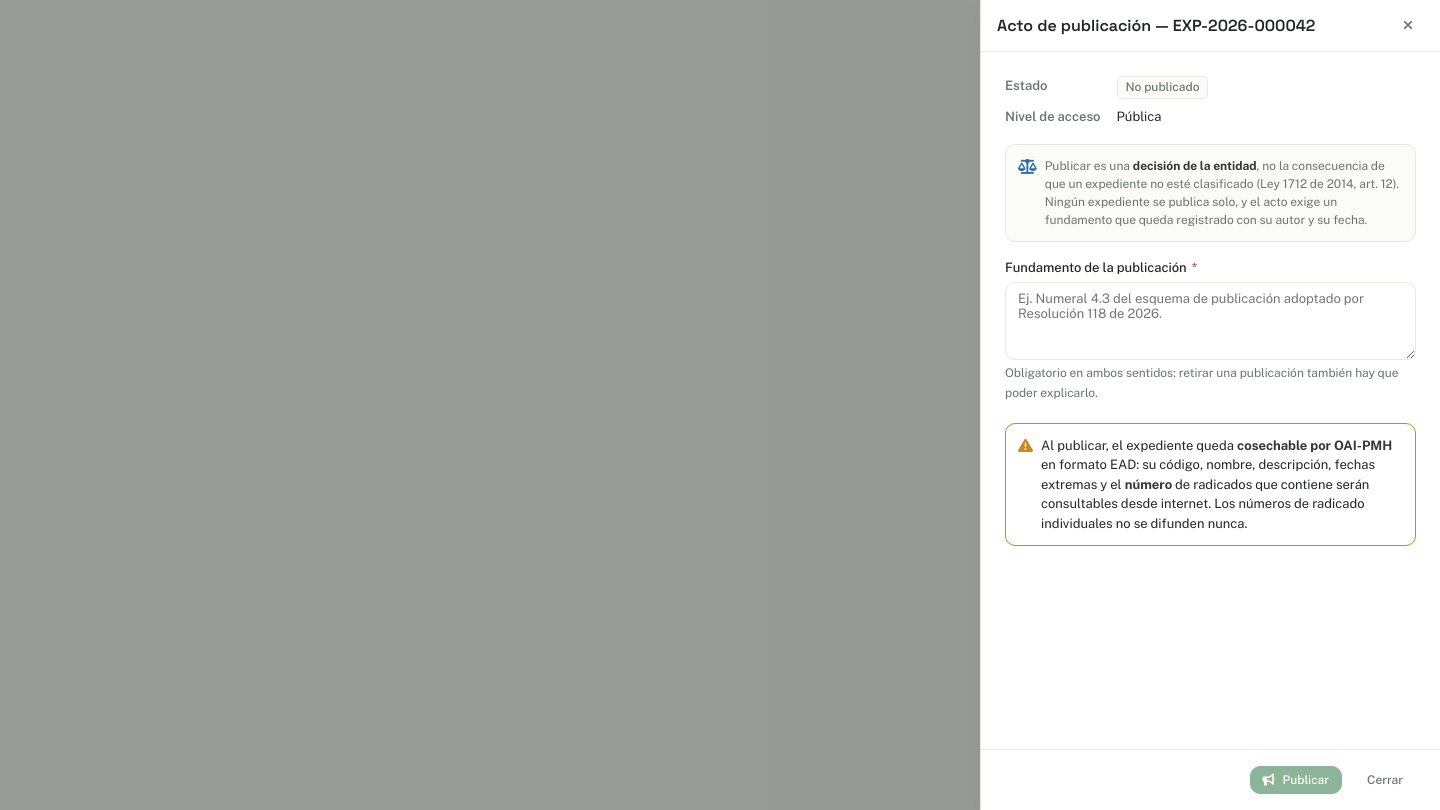
PublicacionExpedienteDrawer › sin fundamento el botón está deshabilitado
Expected: the 1st button named "Publicar" is disabled, [1250,766,1342,794]
Replace the text in the text box labelled "Fundamento de la publicación *" with "Numeral 4.3 del esquema": (1210, 321) [1005,282,1416,360]
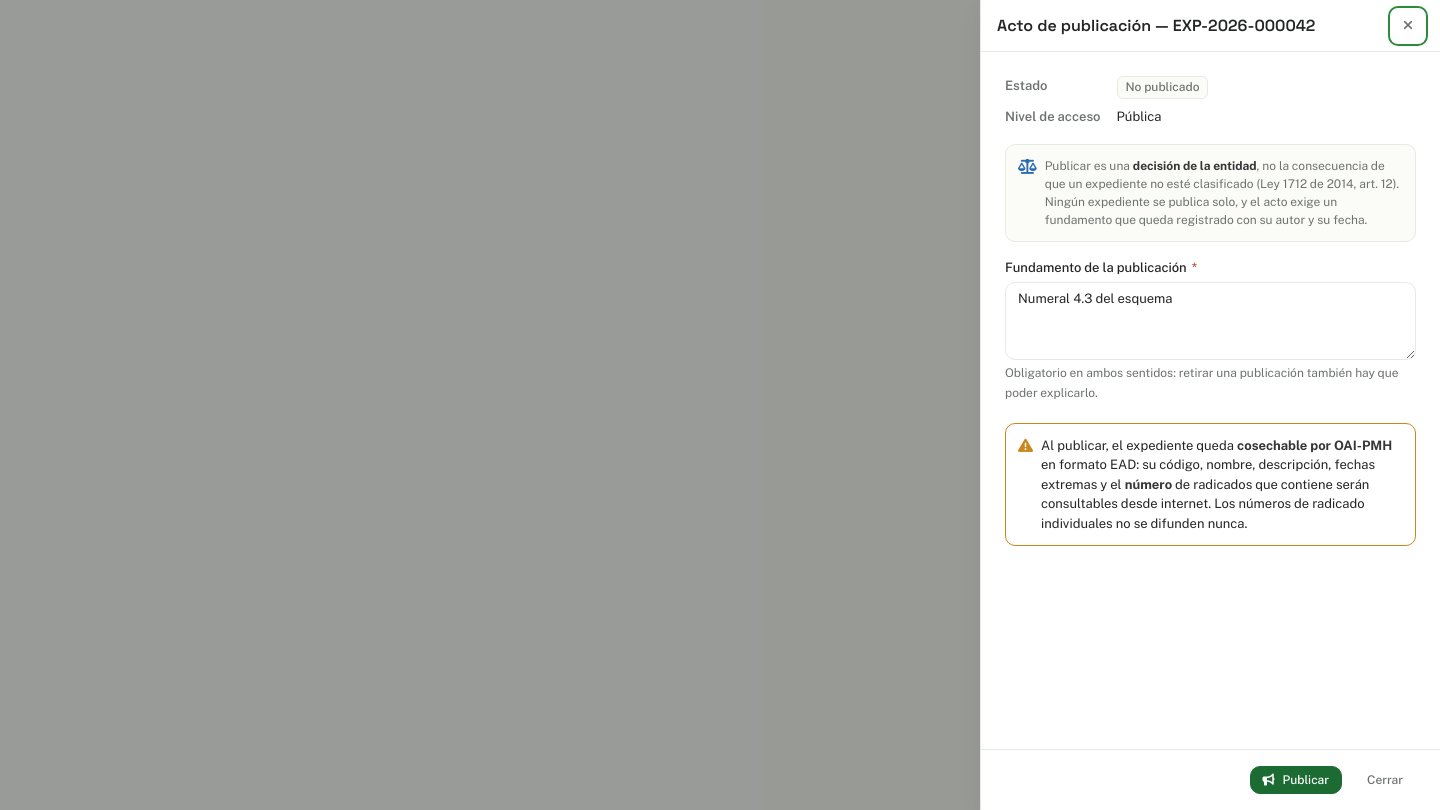
Now the 1st button named "Publicar" is enabled, box [1250,766,1342,794]
